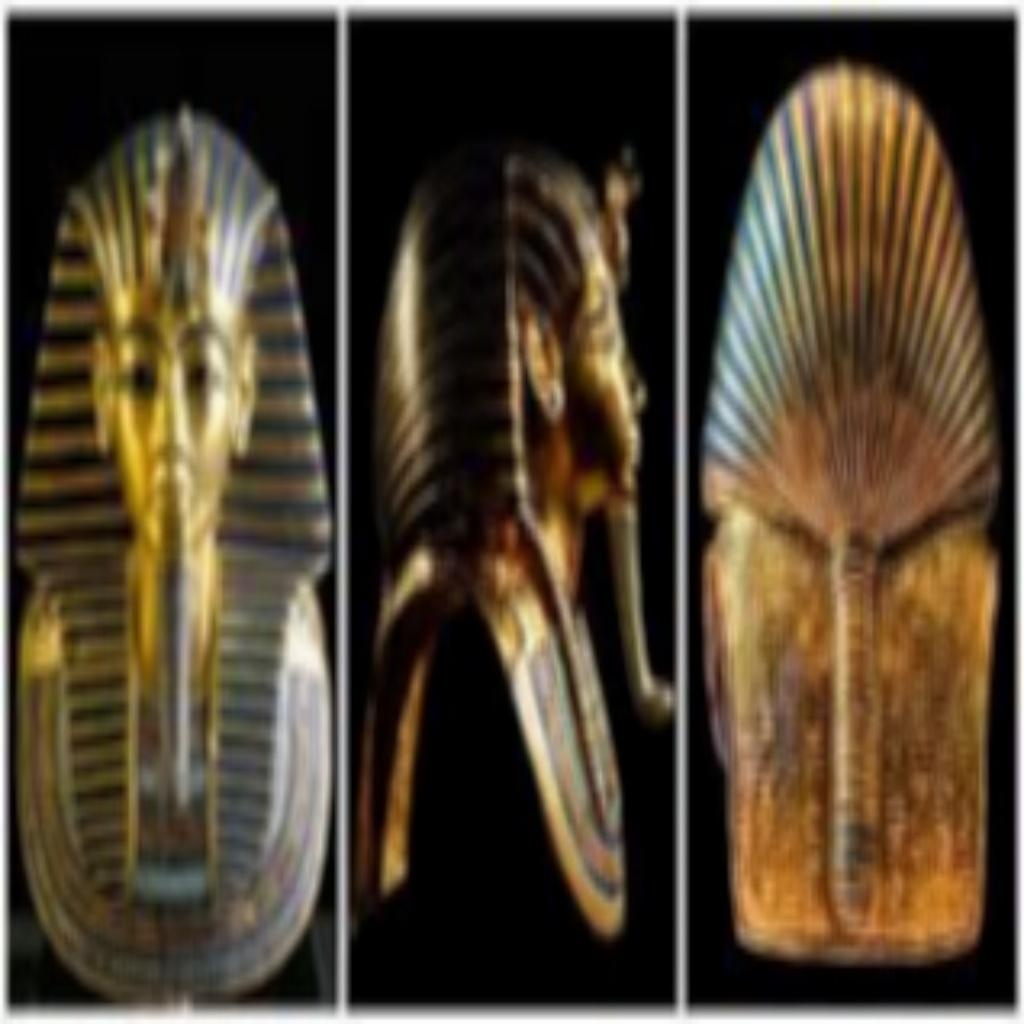Mask of Tutankhamun: (13, 103, 335, 998), (700, 65, 1002, 956), (364, 125, 672, 947)
